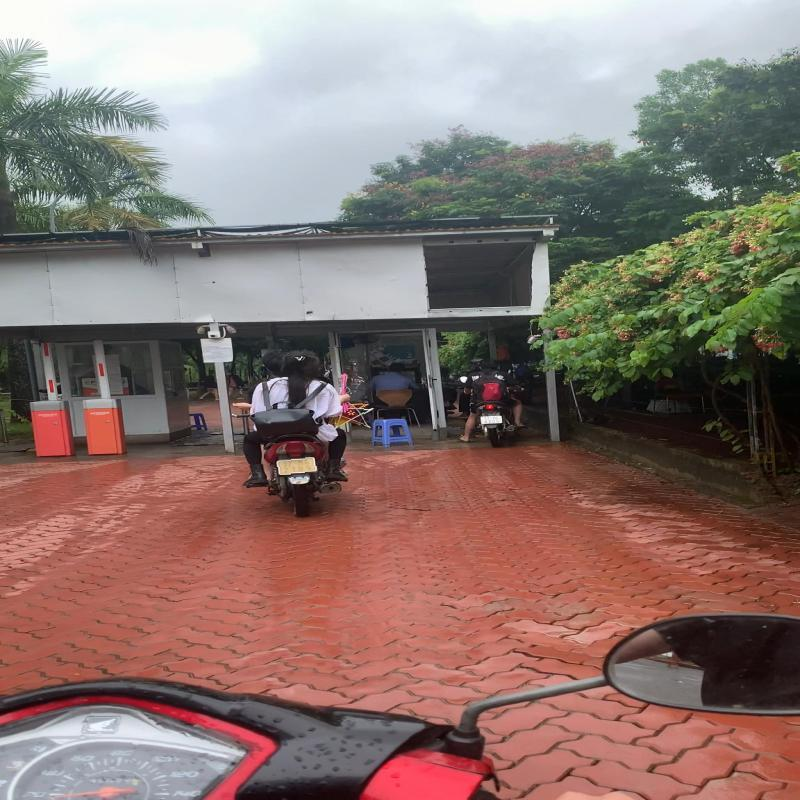motorcyclist: (234, 347, 365, 521)
nohelmet: (278, 349, 325, 377), (274, 456, 322, 477), (259, 350, 287, 374)
